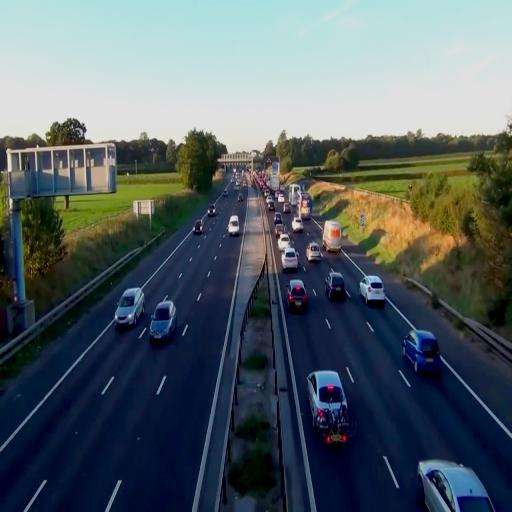vehicle: (418, 458, 496, 512), (307, 369, 348, 438), (404, 329, 442, 375), (148, 298, 176, 344), (115, 287, 144, 328), (360, 275, 384, 307), (287, 279, 308, 312), (326, 272, 346, 303), (323, 221, 342, 253), (282, 248, 298, 272), (306, 240, 322, 263), (228, 215, 240, 235), (291, 216, 304, 234), (196, 222, 204, 234), (194, 222, 202, 234)
